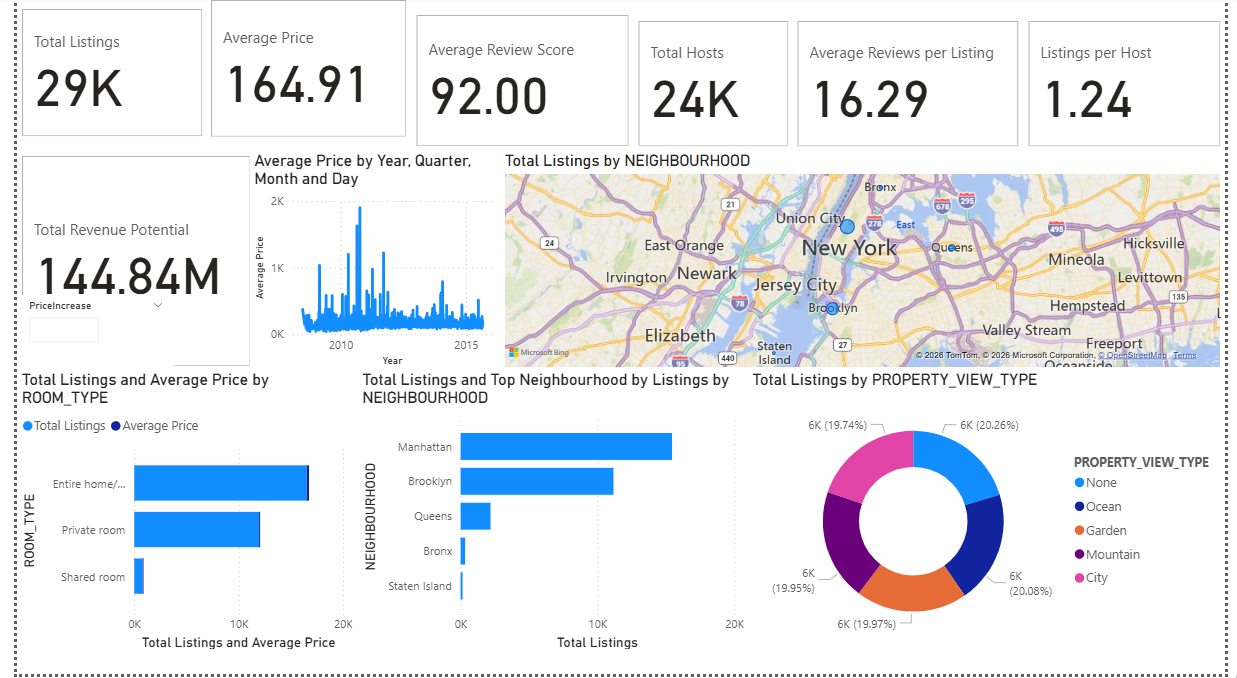

Layout of this report page (visuals, bound fields, positions):
{"tool":"powerbi","page":{"name":" Executive Overview","canvas":[1280,720],"ordinal":0},"visuals":[{"type":"cardVisual","fields":{"Data":["Metrics.Total Listings"]},"box":[0,10,201.2,145.4],"z":0},{"type":"cardVisual","fields":{"Data":["Metrics.Average Price"]},"box":[201.2,0,217.1,155.4],"z":1000},{"type":"cardVisual","fields":{"Data":["Metrics.Average Review Score"]},"box":[418.3,15.9,235,149.4],"z":2000},{"type":"cardVisual","fields":{"Data":["Metrics.Total Hosts"]},"box":[653.3,21.9,169.3,143.4],"z":3000},{"type":"cardVisual","fields":{"Data":["Metrics.Total Revenue Potential"]},"box":[0,165.3,253,233],"z":4000},{"type":"lineChart","fields":{"Y":["Metrics.Average Price"],"Category":["DIMHOST.HOST_SINCE.Variation.Date Hierarchy.Year","DIMHOST.HOST_SINCE.Variation.Date Hierarchy.Quarter","DIMHOST.HOST_SINCE.Variation.Date Hierarchy.Month","DIMHOST.HOST_SINCE.Variation.Date Hierarchy.Day"]},"box":[247,165.3,264.9,233],"z":5000},{"type":"cardVisual","fields":{"Data":["Metrics.Listings per Host"]},"box":[1067.6,21.9,213.1,143.4],"z":6000},{"type":"cardVisual","fields":{"Data":["Metrics.Average Reviews per Listing"]},"box":[822.6,21.9,245,143.4],"z":7000},{"type":"clusteredBarChart","fields":{"Category":["DIMLOCATION.NEIGHBOURHOOD"],"Y":["Metrics.Total Listings"]},"box":[360.5,398.3,414.3,300.8],"z":8000},{"type":"barChart","fields":{"Category":["DIMPROPERTY.ROOM_TYPE"],"Y":["Metrics.Total Listings","Metrics.Average Price"]},"box":[0,398.3,360.5,300.8],"z":9000},{"type":"donutChart","fields":{"Category":["DIMPROPERTYVIEW.PROPERTY_VIEW_TYPE"],"Y":["Metrics.Total Listings"]},"box":[774.8,398.3,505.9,300.8],"z":9001},{"type":"map","fields":{"Category":["DIMLOCATION.NEIGHBOURHOOD"],"Size":["Metrics.Total Listings"]},"box":[511.9,165.3,768.8,233],"z":9002},{"type":"slicer","fields":{"Values":["PriceIncrease.PriceIncrease"]},"box":[0,318.7,167.3,79.7],"z":9004}]}

Visuals, with their boxes in screenshot pixels (x1, y1, x2, y2), scaled from the page's 1280x720 canvas onto the 1237x678 screenshot:
cardVisual - Metrics.Total Listings: rect(0, 9, 194, 146)
cardVisual - Metrics.Average Price: rect(194, 0, 404, 146)
cardVisual - Metrics.Average Review Score: rect(404, 15, 631, 156)
cardVisual - Metrics.Total Hosts: rect(631, 21, 795, 156)
cardVisual - Metrics.Total Revenue Potential: rect(0, 156, 245, 375)
lineChart - Metrics.Average Price x DIMHOST.HOST_SINCE.Variation.Date Hierarchy.Year: rect(239, 156, 495, 375)
cardVisual - Metrics.Listings per Host: rect(1032, 21, 1236, 156)
cardVisual - Metrics.Average Reviews per Listing: rect(795, 21, 1032, 156)
clusteredBarChart - DIMLOCATION.NEIGHBOURHOOD x Metrics.Total Listings: rect(348, 375, 749, 658)
barChart - DIMPROPERTY.ROOM_TYPE x Metrics.Total Listings: rect(0, 375, 348, 658)
donutChart - DIMPROPERTYVIEW.PROPERTY_VIEW_TYPE x Metrics.Total Listings: rect(749, 375, 1236, 658)
map - DIMLOCATION.NEIGHBOURHOOD x Metrics.Total Listings: rect(495, 156, 1236, 375)
slicer - PriceIncrease.PriceIncrease: rect(0, 300, 162, 375)
